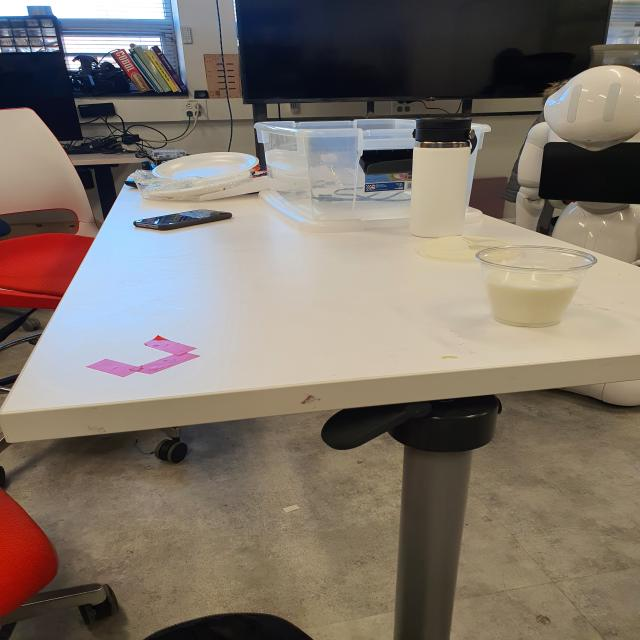Milk: (472, 235, 610, 354)
